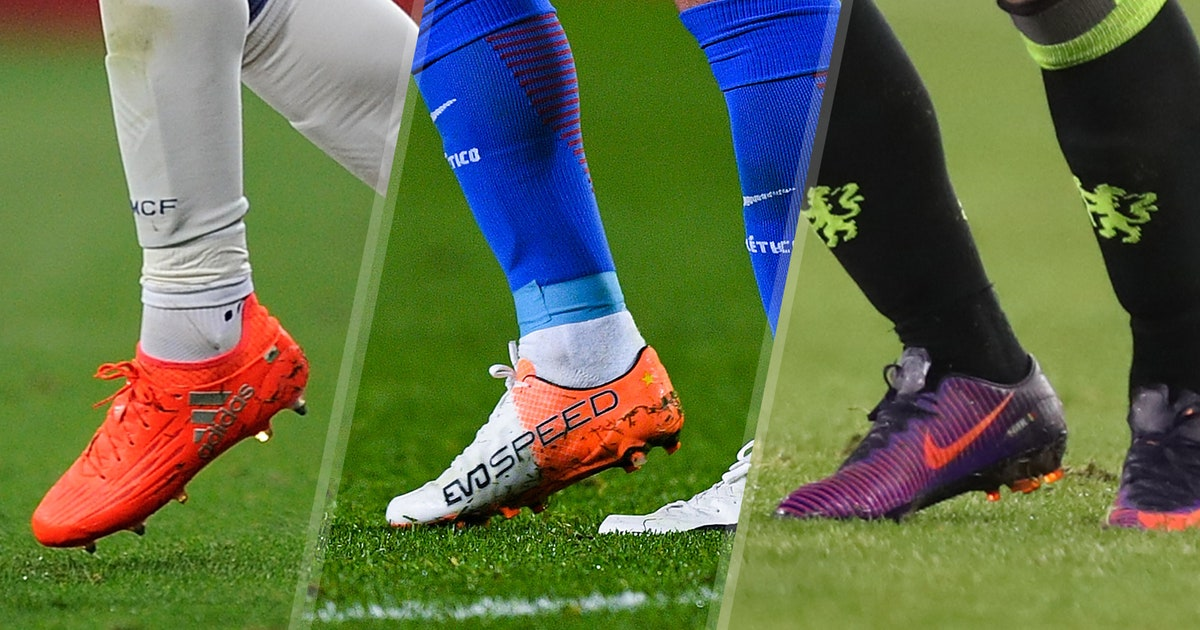football boots: (28, 297, 313, 552), (381, 341, 684, 528), (773, 357, 1062, 520), (1102, 381, 1200, 532), (598, 448, 751, 536)
